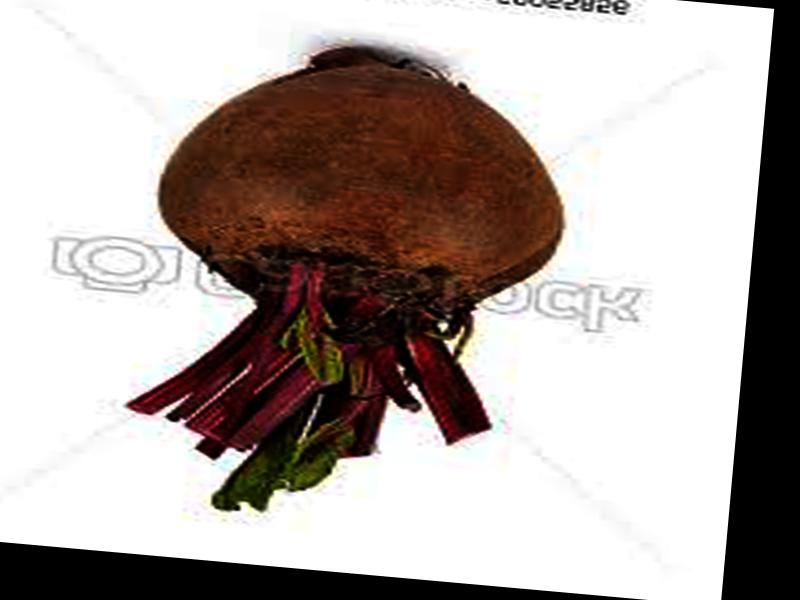Beet: (120, 32, 580, 537)
